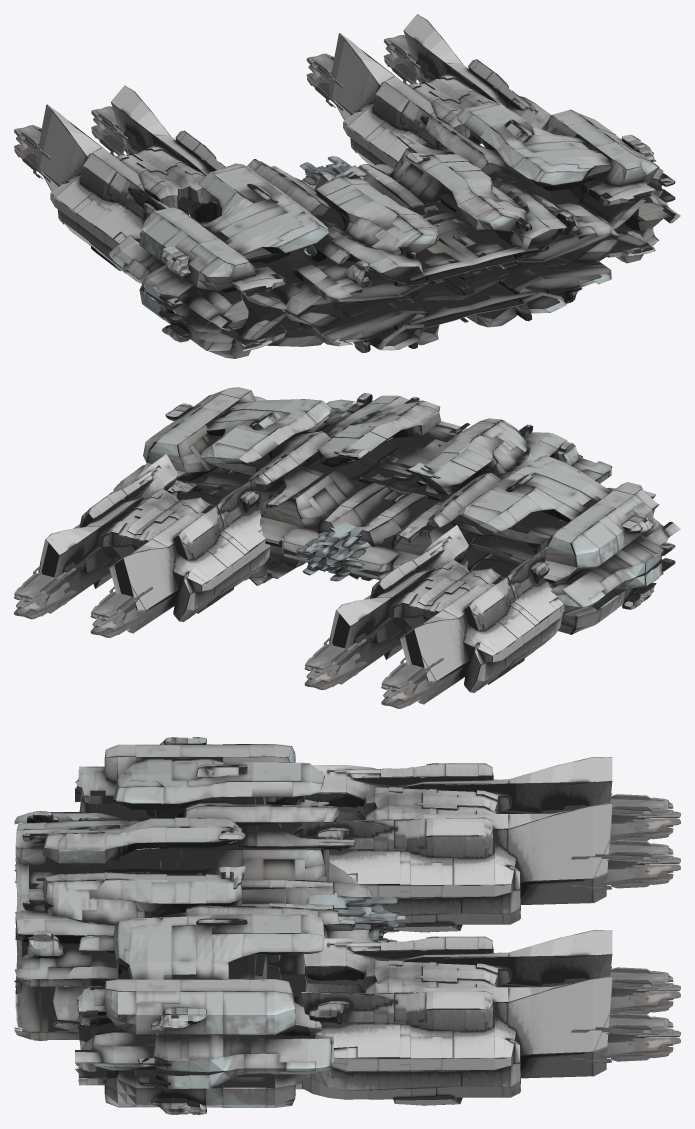
Rendered from DREADNOUGHT_003.fbx.
The picture shows the model from 3 angles, top to bottom: view 1: azimuth 30°, elevation 25°; view 2: azimuth 150°, elevation 25°; view 3: azimuth 270°, elevation 25°; orthographic projection. The views are drawn at different scales.
Parts seen in each view (by area): view 1: DREADNOUGHT_003; view 2: DREADNOUGHT_003; view 3: DREADNOUGHT_003.
Boxes of the visible parts, x1=… form: DREADNOUGHT_003: x1=14, y1=14, x2=680, y2=358; DREADNOUGHT_003: x1=14, y1=387, x2=680, y2=708; DREADNOUGHT_003: x1=14, y1=737, x2=680, y2=1114.
Size of the model in its own units: 139 by 36.2 by 131.
